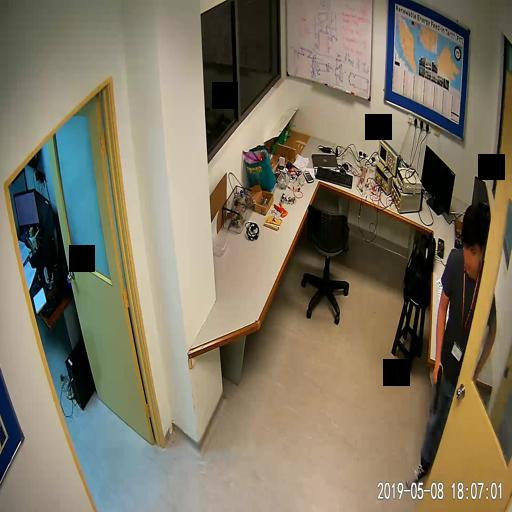Handgun: (430, 361, 442, 411)
